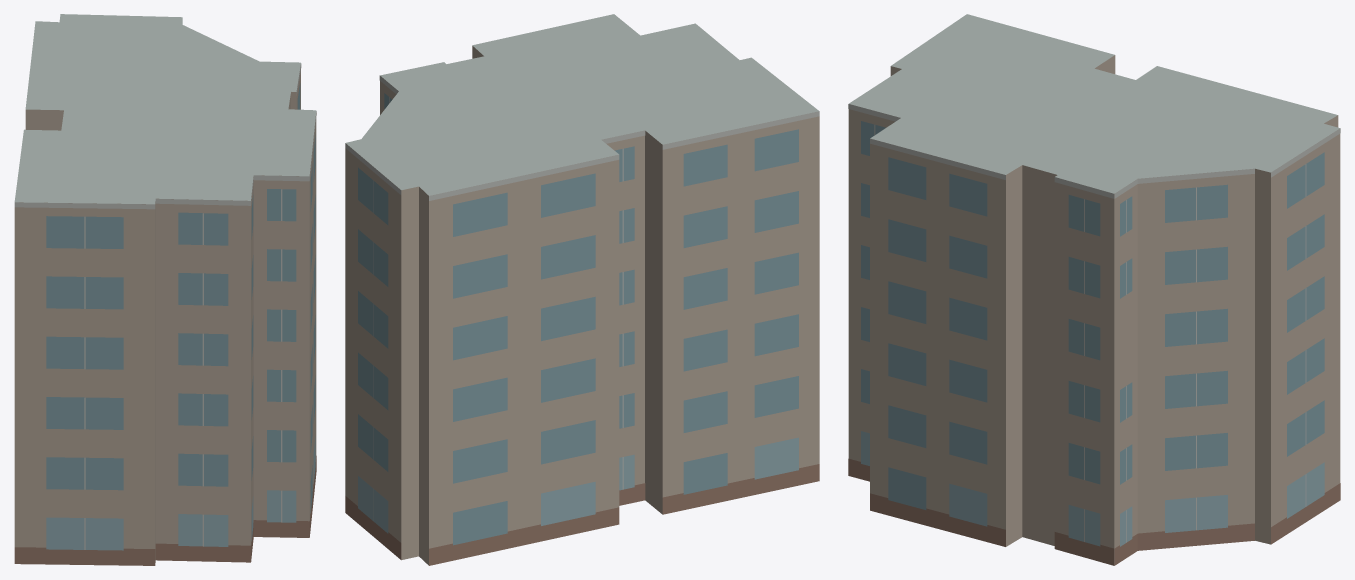
The model's file is survey-upis-32997324.glb.
3 renders of one model, left to right at view 1: azimuth 30°, elevation 25°; view 2: azimuth 150°, elevation 25°; view 3: azimuth 270°, elevation 25°, orthographic. The views are drawn at different scales.
Parts seen in each view (by area): view 1: survey-upis-32997324.tmp; view 2: survey-upis-32997324.tmp; view 3: survey-upis-32997324.tmp.
Part boxes in pixels (<box>): survey-upis-32997324.tmp: <box>14,14,316,565</box>; survey-upis-32997324.tmp: <box>345,14,819,565</box>; survey-upis-32997324.tmp: <box>848,14,1340,565</box>.
Bounding box in the file's own units: 18.25 × 17.6 × 21.1.
